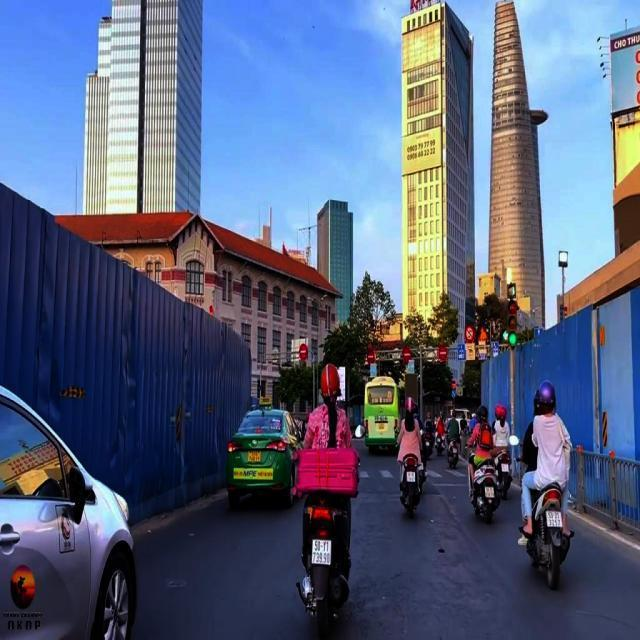102-cam-di-nguoc-chieu: (437, 346, 449, 362), (298, 344, 309, 360), (401, 346, 411, 362), (366, 349, 374, 364)
